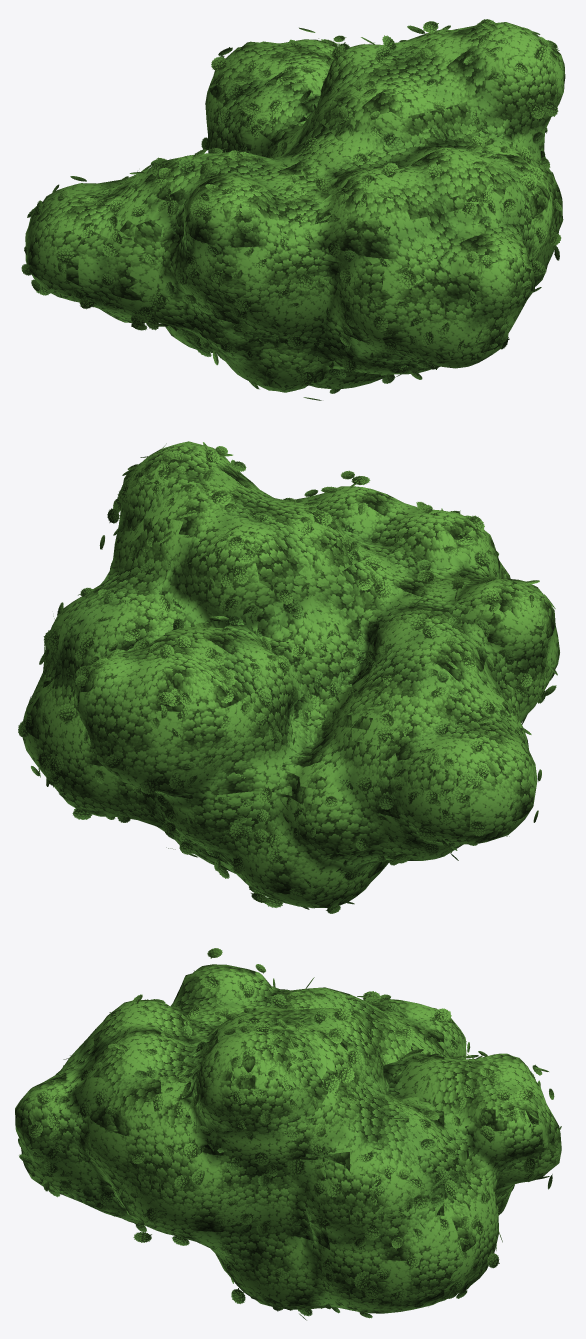
The model's file is ballbush_v2.glb.
3 views of the same model, one above another, from view 1: azimuth 30°, elevation 25°; view 2: azimuth 150°, elevation 25°; view 3: azimuth 270°, elevation 25° (orthographic). The views are drawn at different scales.
Parts seen in each view (by area): view 1: ballbush_v2_volume_LOD0, ballbush_v2_leaves_LOD0; view 2: ballbush_v2_volume_LOD0, ballbush_v2_leaves_LOD0; view 3: ballbush_v2_volume_LOD0, ballbush_v2_leaves_LOD0.
Part boxes in pixels (x1=…): ballbush_v2_volume_LOD0: x1=25, y1=22, x2=565, y2=392; ballbush_v2_leaves_LOD0: x1=21, y1=19, x2=563, y2=400; ballbush_v2_volume_LOD0: x1=22, y1=441, x2=559, y2=908; ballbush_v2_leaves_LOD0: x1=18, y1=442, x2=557, y2=913; ballbush_v2_volume_LOD0: x1=15, y1=964, x2=561, y2=1313; ballbush_v2_leaves_LOD0: x1=18, y1=948, x2=561, y2=1320.
Size of what is drawn, in the model's own units: 2.38 by 1.63 by 2.48.
2 materials, 2 textured.
